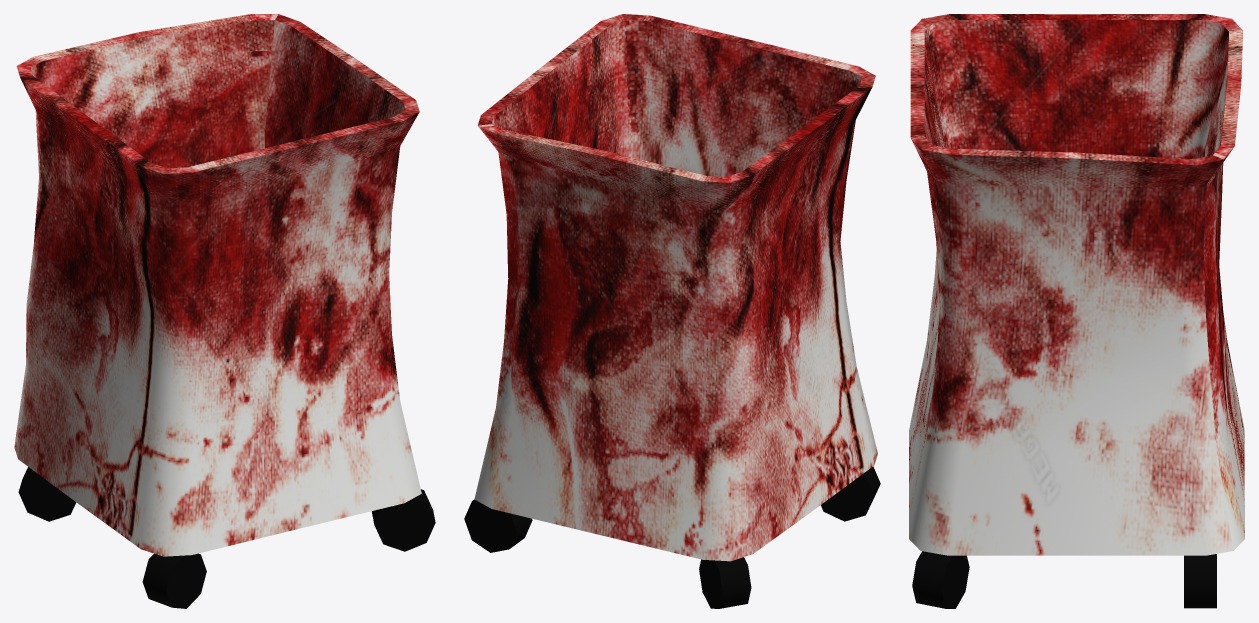
File: trash.fbx
3 views of the same model, side by side, from view 1: azimuth 30°, elevation 25°; view 2: azimuth 150°, elevation 25°; view 3: azimuth 270°, elevation 25° (orthographic). The views are drawn at different scales.
Parts seen in each view (by area): view 1: trash; view 2: trash; view 3: trash.
Boxes of the visible parts, x1,y1,x2,y2 form: trash: [14, 14, 435, 608]; trash: [464, 14, 880, 608]; trash: [909, 14, 1244, 608].
Size of the model in its own units: 0.4249 by 0.6213 by 0.4069.
2 materials, 1 textured.
